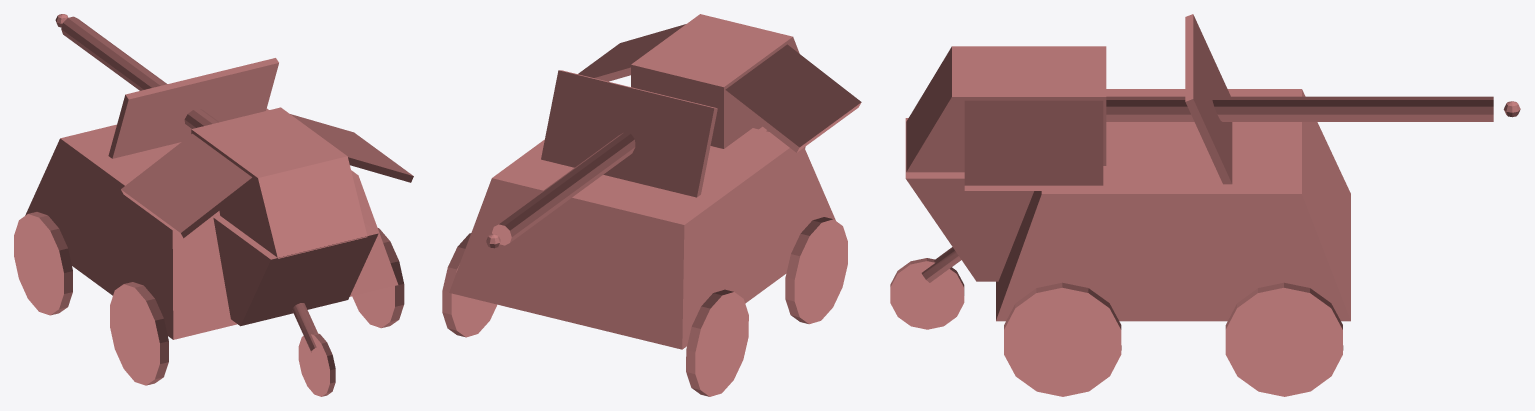
3 views of the same model, side by side, from view 1: azimuth 30°, elevation 25°; view 2: azimuth 150°, elevation 25°; view 3: azimuth 270°, elevation 25° (orthographic). The views are drawn at different scales.
Visible parts, largest first — view 1: x3ds_Box01, x3ds_Box03, x3ds_Box02, x3ds_Box06, x3ds_Box04, x3ds_Cylinder06, x3ds_Cylinder05, x3ds_Cylinder07, x3ds_Box05, x3ds_Cylinder01, x3ds_Cylinder02, x3ds_Cylinder03; view 2: x3ds_Box01, x3ds_Box06, x3ds_Box03, x3ds_Box04, x3ds_Cylinder06, x3ds_Cylinder05, x3ds_Cylinder07, x3ds_Cylinder04, x3ds_Box05; view 3: x3ds_Box01, x3ds_Box03, x3ds_Box05, x3ds_Cylinder04, x3ds_Cylinder01, x3ds_Cylinder07, x3ds_Box02, x3ds_Box06, x3ds_Cylinder02, x3ds_Cylinder03.
Boxes of the visible parts, x1,y1,x2,y2 form: x3ds_Box01: (25, 108, 398, 339); x3ds_Box03: (191, 107, 367, 258); x3ds_Box02: (213, 216, 378, 326); x3ds_Box06: (108, 58, 278, 158); x3ds_Box04: (121, 133, 252, 238); x3ds_Cylinder06: (110, 282, 168, 385); x3ds_Cylinder05: (14, 212, 72, 315); x3ds_Cylinder07: (61, 16, 218, 128); x3ds_Box05: (290, 114, 413, 182); x3ds_Cylinder01: (352, 228, 404, 328); x3ds_Cylinder02: (298, 333, 335, 396); x3ds_Cylinder03: (292, 303, 317, 352); x3ds_Box01: (449, 128, 835, 349); x3ds_Box06: (541, 70, 717, 197); x3ds_Box03: (631, 14, 799, 148); x3ds_Box04: (725, 44, 861, 152); x3ds_Cylinder06: (785, 217, 847, 324); x3ds_Cylinder05: (686, 289, 748, 396); x3ds_Cylinder07: (492, 132, 635, 245); x3ds_Cylinder04: (442, 233, 496, 337); x3ds_Box05: (578, 24, 685, 81); x3ds_Box01: (996, 89, 1350, 321); x3ds_Box03: (906, 46, 1106, 172); x3ds_Box05: (964, 100, 1103, 190); x3ds_Cylinder04: (1225, 282, 1343, 396); x3ds_Cylinder01: (1004, 282, 1121, 396); x3ds_Cylinder07: (1106, 96, 1493, 121); x3ds_Box02: (905, 118, 1033, 281); x3ds_Box06: (1185, 14, 1232, 184); x3ds_Cylinder02: (890, 258, 964, 329); x3ds_Cylinder03: (921, 247, 961, 282).
Bounding box in the file's own units: 38.43 × 35.18 × 74.02.
